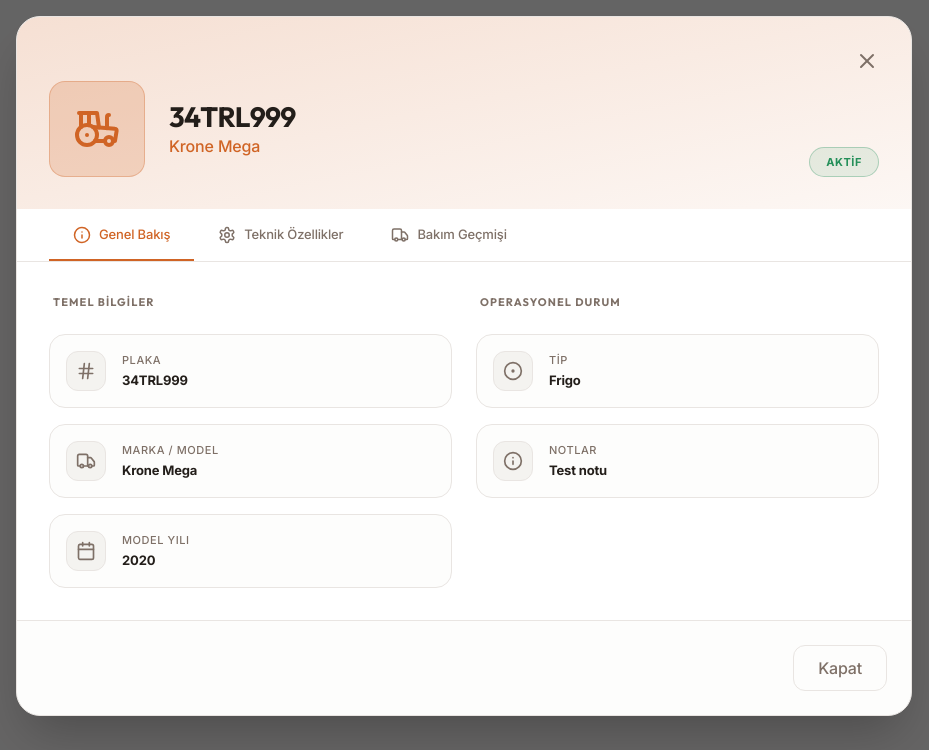
TrailerDetailModal › switches to Technical tab and shows weight section
Click the button "Teknik Özellikler" at (281, 235), box [194,209,368,260]
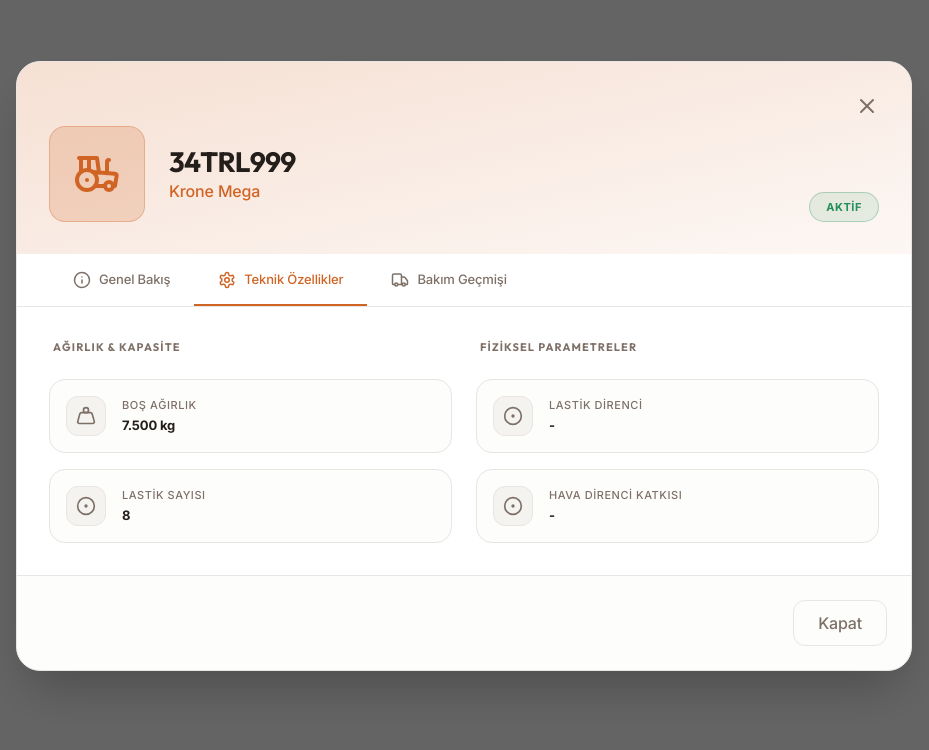
Expected: the heading "Ağırlık & Kapasite" is shown, [53,340,181,354]
Expected: the text "Boş Ağırlık" is shown, [122,397,197,414]
